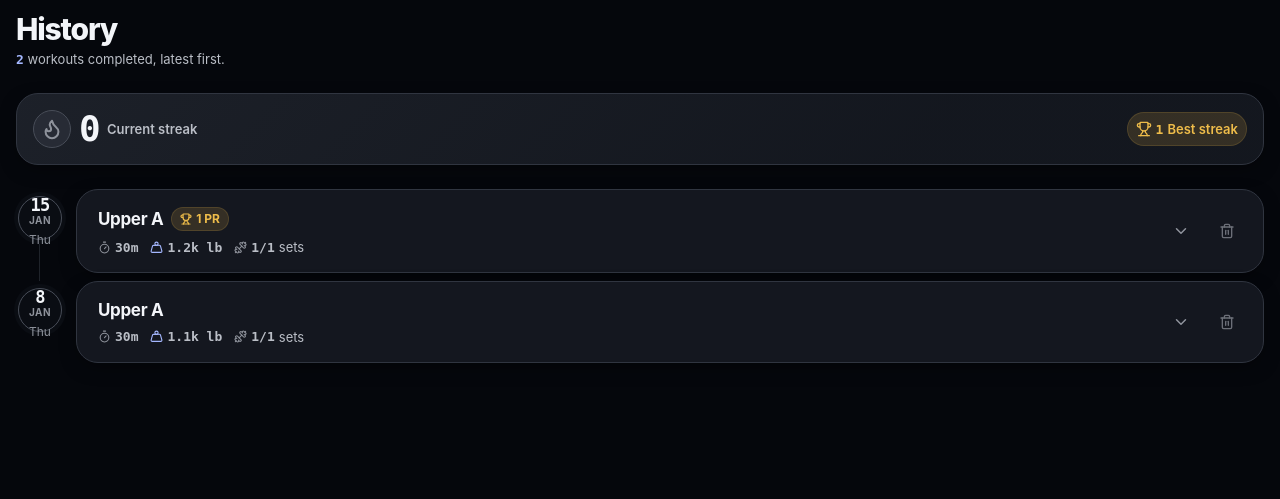
Test case: HistoryView — baseline vs PR semantics › labels a set that beats a prior best as "PR" and counts it on the card
# Expand the more recent (2026-01-15) session, which beat the baseline.
Click the text "Upper A" in the row of "15". click: click(131, 219)
box: top-left (98, 209), bottom-right (163, 230)
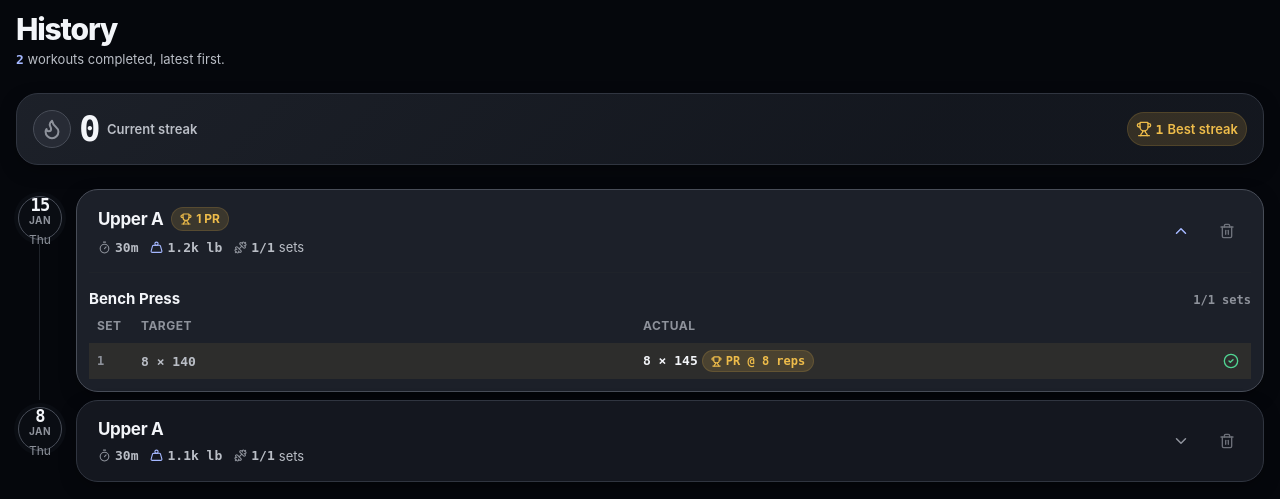
Expected: the text "1 PR" is shown, top-left (171, 207), bottom-right (229, 231)
Now the text "PR @ 8 reps" is shown, box top-left (702, 350), bottom-right (814, 372)
